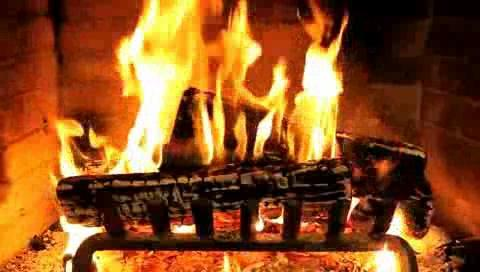fire: (16, 0, 480, 176)
